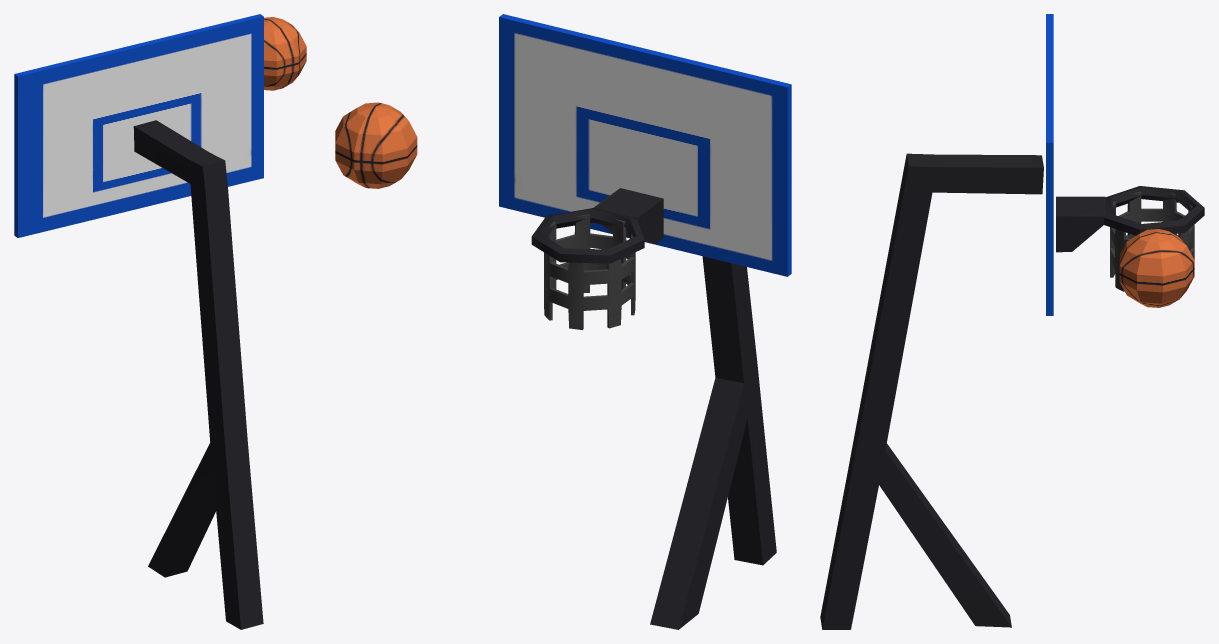
File: Basket.fbx
3 renders of one model, left to right at view 1: azimuth 30°, elevation 25°; view 2: azimuth 150°, elevation 25°; view 3: azimuth 270°, elevation 25°, orthographic. The views are drawn at different scales.
Parts seen in each view (by area): view 1: pCube1, pCube4, pSphere1; view 2: pCube1, pCube4, pCylinder6, pSphere1, pCylinder5, pCube3; view 3: pCube4, pSphere1, pCylinder5, pCube1, pCube3, pCylinder6.
Boxes of the visible parts, left/top/right/bottom form: pCube1: left=14, top=14, right=263, bottom=237; pCube4: left=133, top=120, right=263, bottom=629; pSphere1: left=264, top=17, right=306, bottom=90; pCube1: left=499, top=14, right=791, bottom=276; pCube4: left=650, top=256, right=776, bottom=629; pCylinder6: left=544, top=214, right=635, bottom=329; pSphere1: left=335, top=102, right=417, bottom=188; pCylinder5: left=531, top=208, right=644, bottom=263; pCube3: left=593, top=188, right=663, bottom=243; pCube4: left=820, top=153, right=1043, bottom=629; pSphere1: left=1119, top=229, right=1194, bottom=307; pCylinder5: left=1103, top=186, right=1204, bottom=235; pCube1: left=1046, top=14, right=1053, bottom=315; pCube3: left=1056, top=196, right=1105, bottom=252; pCylinder6: left=1110, top=191, right=1194, bottom=291.
Bounding box in the file's own units: 13.54 × 19.57 × 12.56.
1 material, 1 textured.
